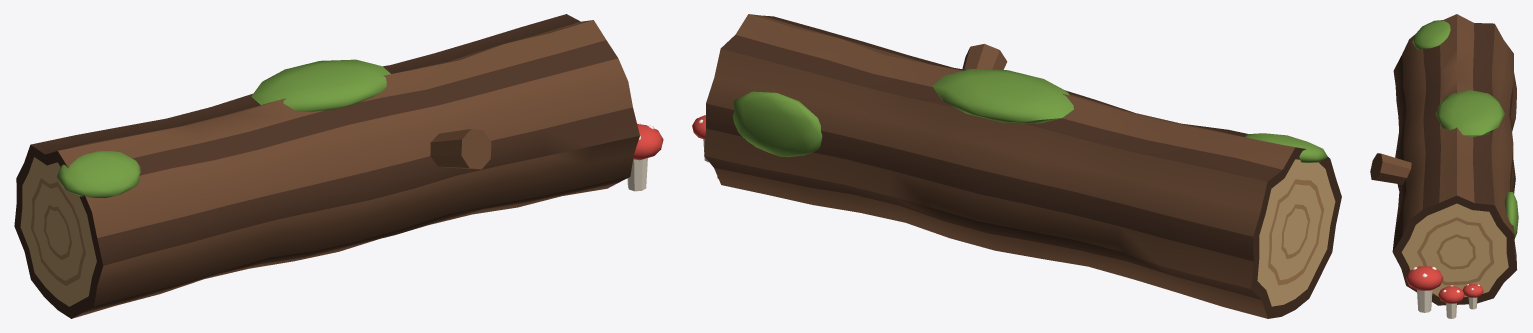
File: log.glb
The picture shows the model from 3 angles, left to right: view 1: azimuth 30°, elevation 25°; view 2: azimuth 150°, elevation 25°; view 3: azimuth 270°, elevation 25°; orthographic projection. The views are drawn at different scales.
Parts seen in each view (by area): view 1: log; view 2: log; view 3: log.
Part boxes in pixels (bbox=[...]): log: bbox=[14, 14, 663, 318]; log: bbox=[692, 14, 1341, 318]; log: bbox=[1370, 14, 1518, 318].
Bounding box in the file's own units: 1.8 × 0.4613 × 0.5528.
